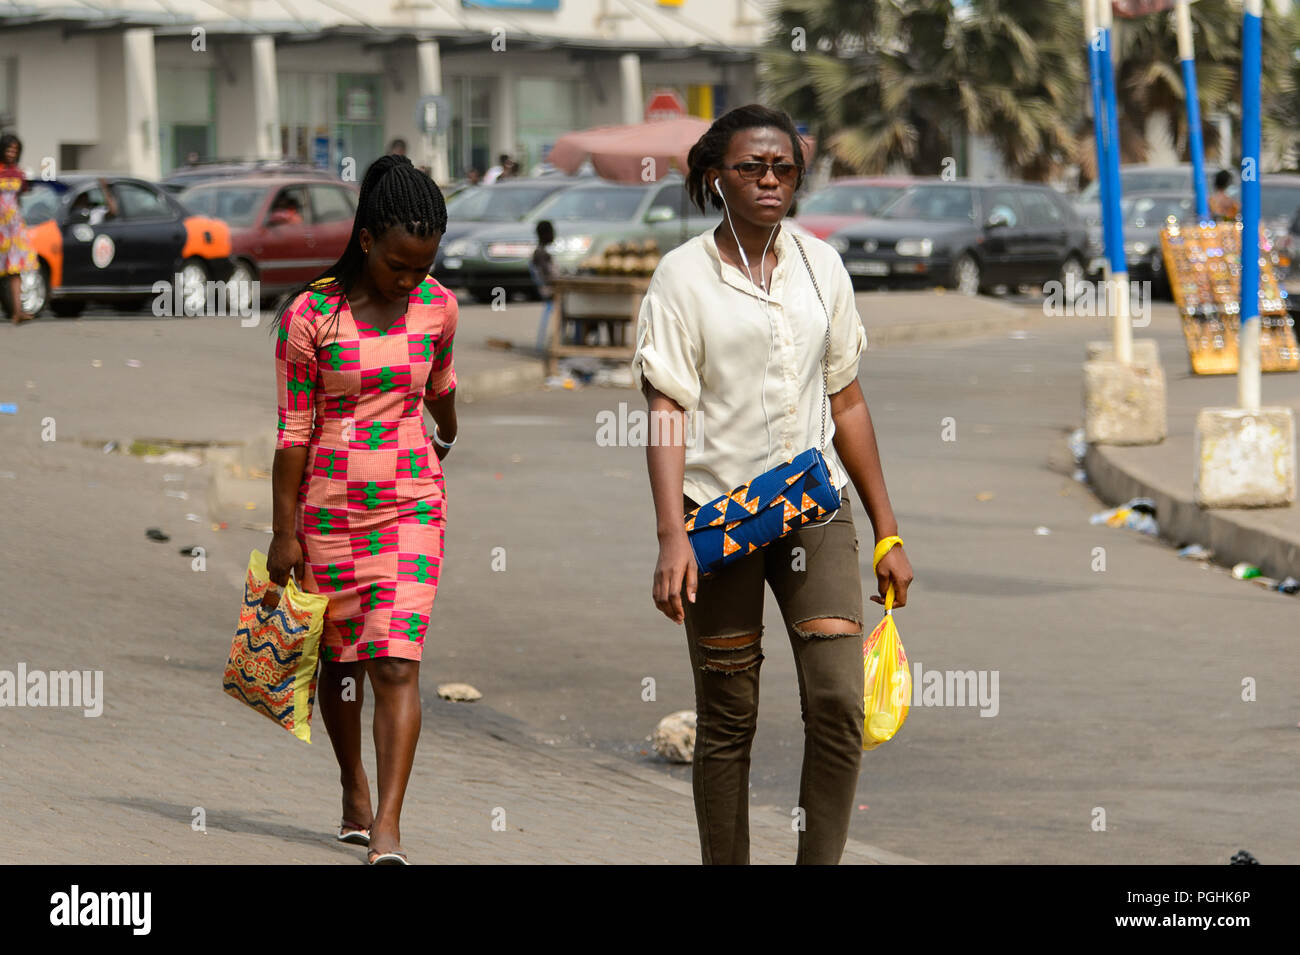car: (1, 168, 229, 326), (839, 172, 1088, 311), (464, 177, 719, 297), (184, 175, 355, 315)
person: (632, 106, 914, 862), (262, 157, 475, 873)
